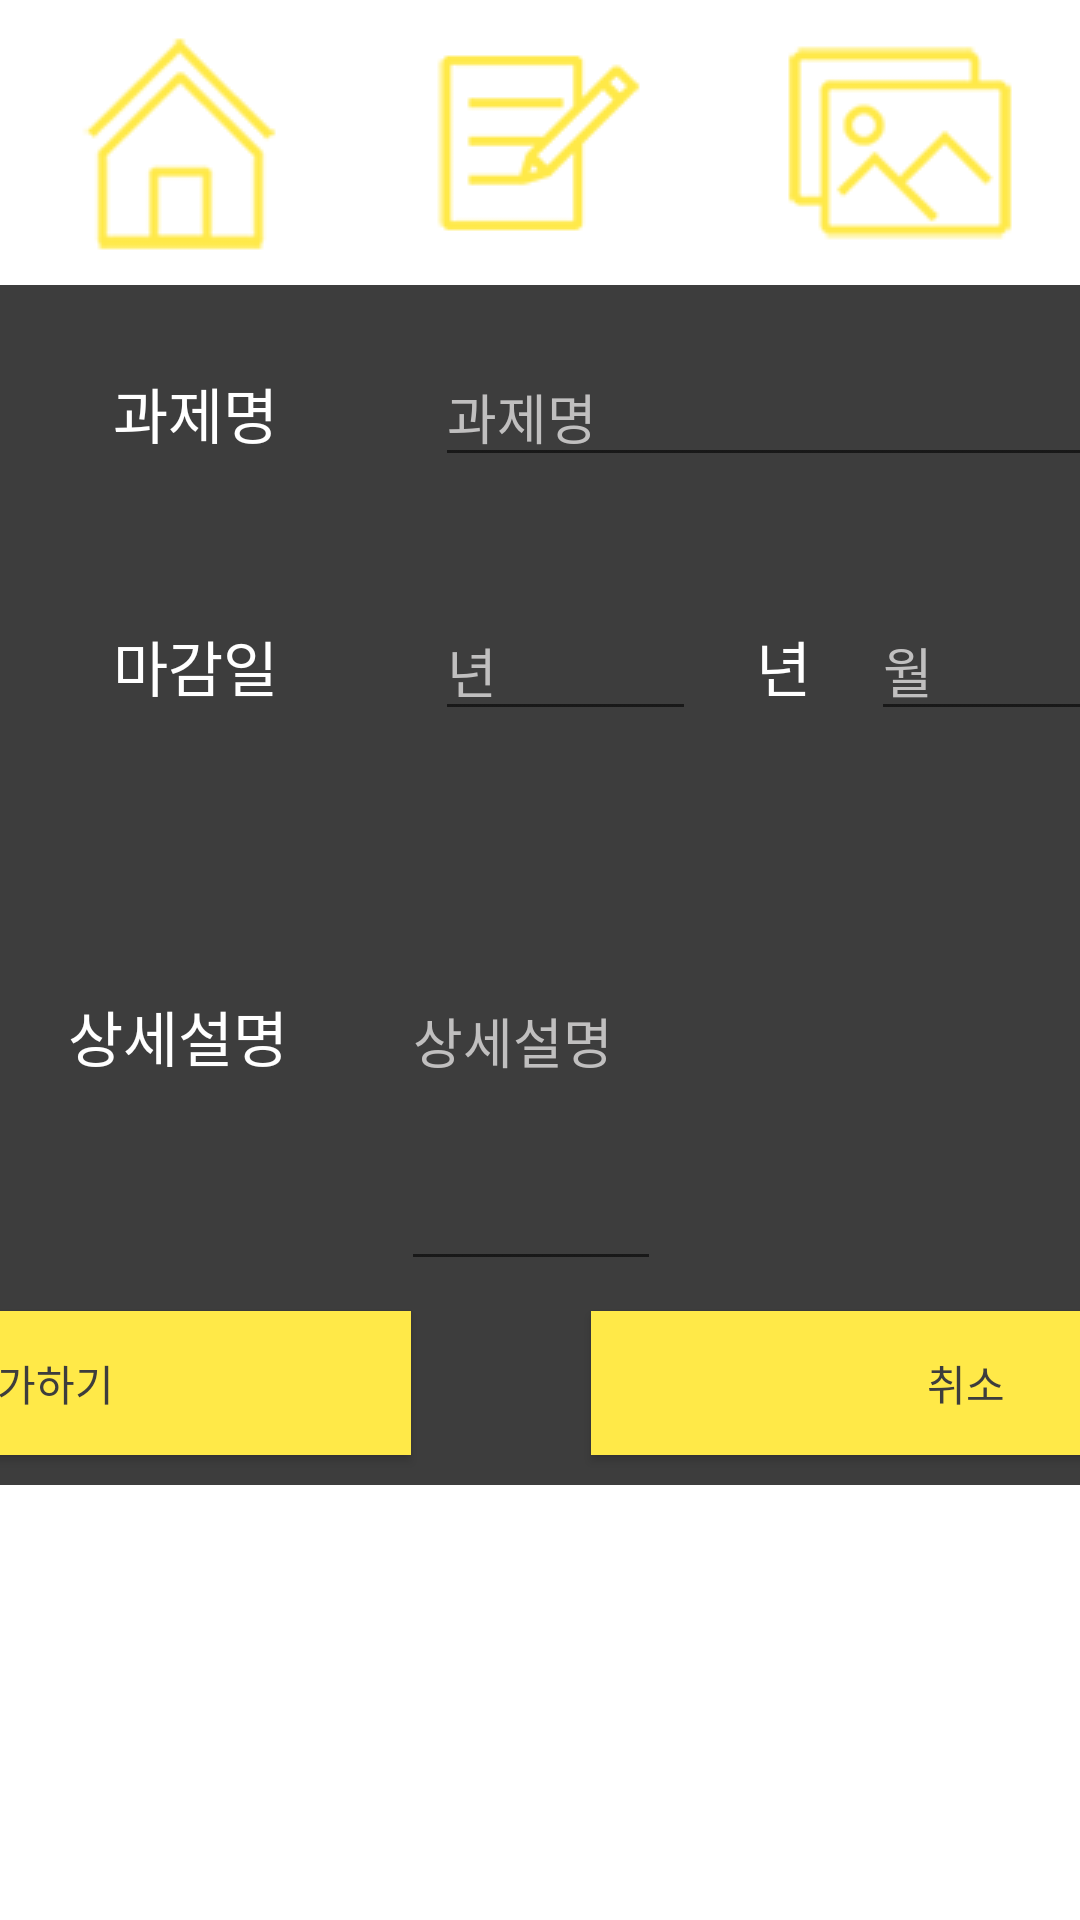

Named icons in this screenshot (1080 x 1920) and their centers, point (x, y):
gall: point (900, 142)
